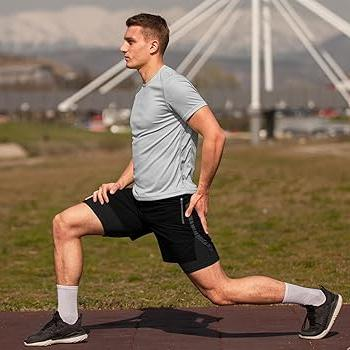Shorts: (81, 186, 220, 272)
short sleeve shirt: (126, 65, 212, 203)
